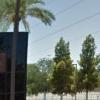Palm tree: (7, 0, 44, 81)
